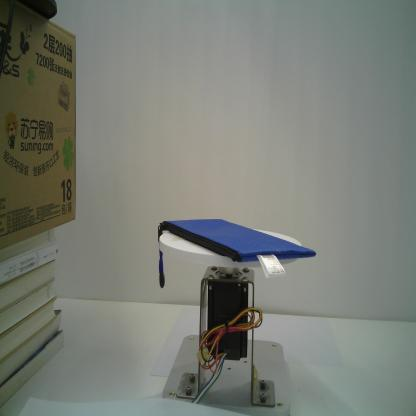Stationery: (158, 219, 317, 290)
